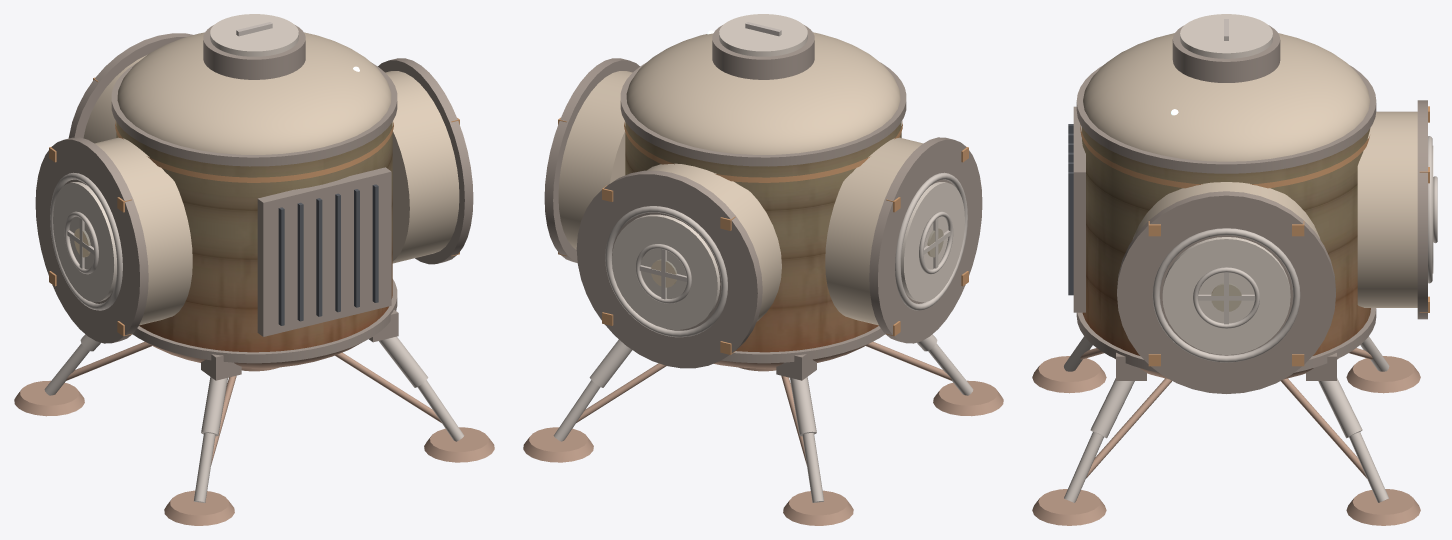
File: W04_node_3ports.glb
The picture shows the model from 3 angles, left to right: view 1: azimuth 30°, elevation 25°; view 2: azimuth 150°, elevation 25°; view 3: azimuth 270°, elevation 25°; orthographic projection. The views are drawn at different scales.
Parts seen in each view (by area): view 1: top_dome, ring, hull, bottom_dome, top_hatch_handle; view 2: top_dome, ring, hull, top_hatch_handle, bottom_dome, port_porthole; view 3: top_dome, ring, hull, top_hatch_handle, bottom_dome, port_porthole.
Part boxes in pixels (x1,y1,x2,y2): top_dome: (49,14,459,336); ring: (35,25,473,380); hull: (116,122,392,352); bottom_dome: (14,341,494,525); top_hatch_handle: (44,22,464,502); top_dome: (558,14,968,354); ring: (544,25,982,380); hull: (625,122,901,352); top_hatch_handle: (553,22,973,502); bottom_dome: (523,341,1003,525); port_porthole: (651,228,943,287); top_dome: (1080,14,1433,366); ring: (1068,25,1427,393); hull: (1082,127,1370,355); top_hatch_handle: (1064,19,1437,502); bottom_dome: (1032,348,1420,525); port_porthole: (1211,283,1241,311).
Size of the model in its own units: 4.09 by 4.44 by 3.92.
7 materials, 1 textured.
